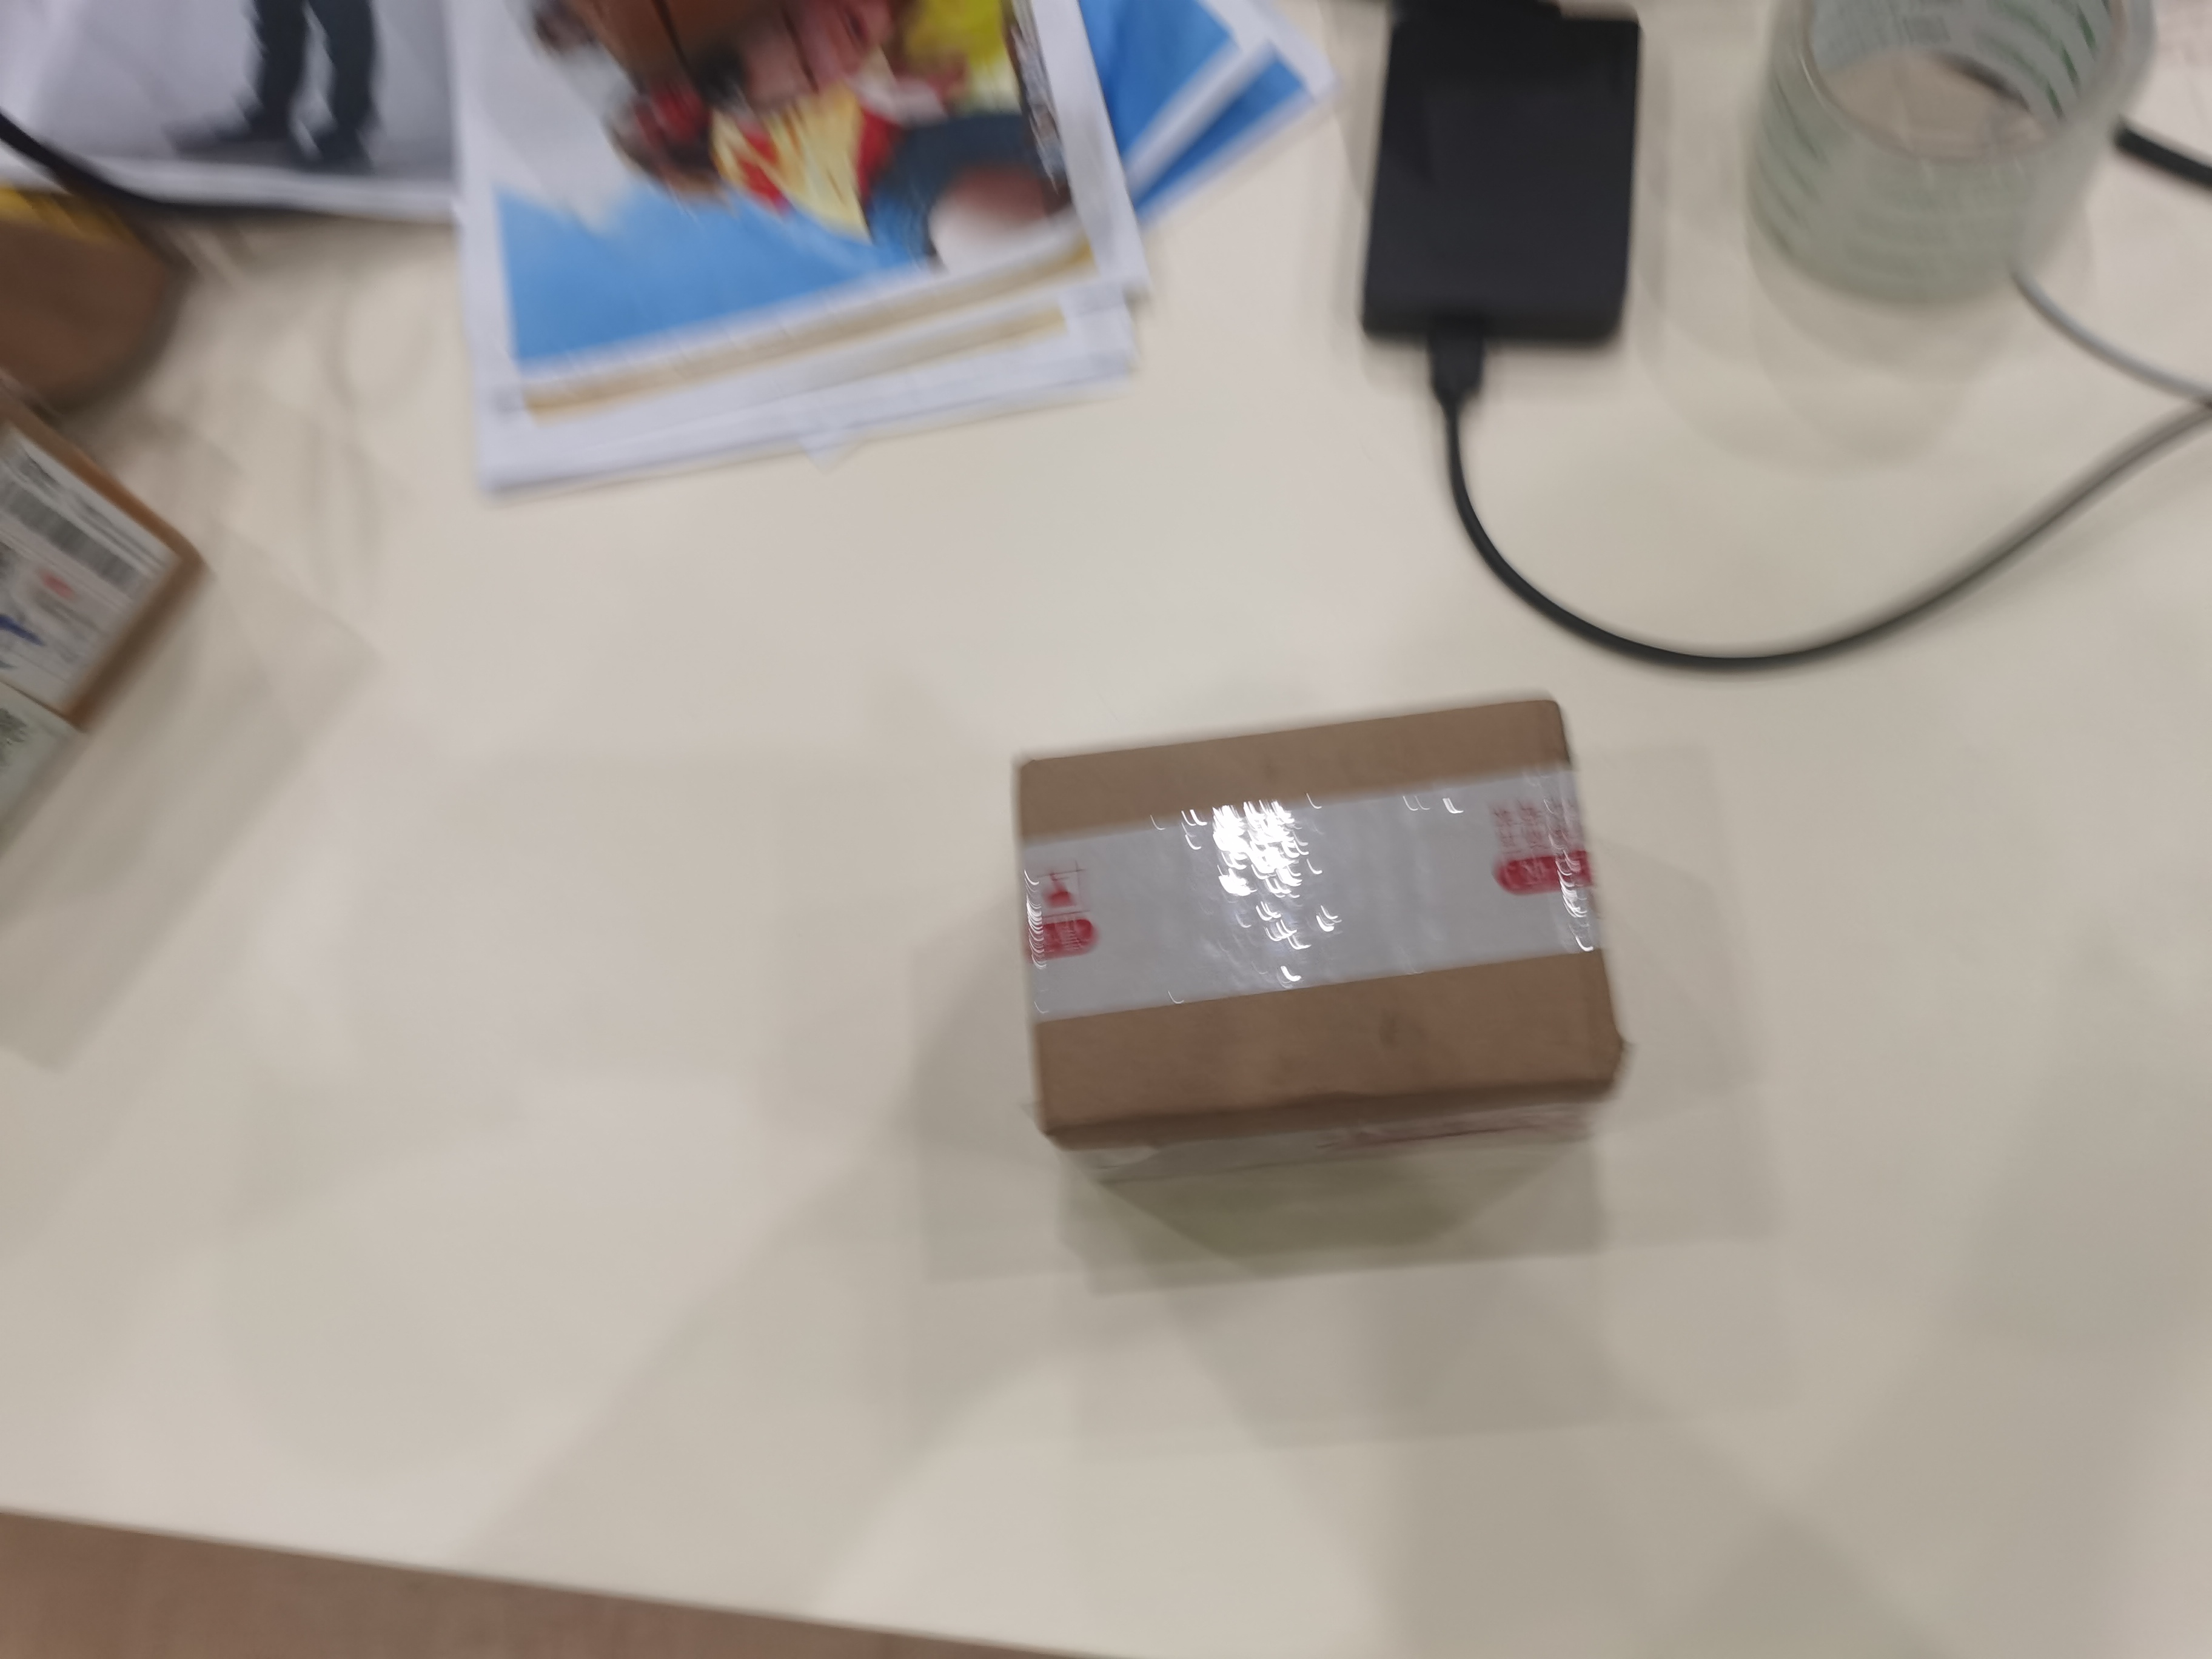box: (960, 709, 1676, 1147)
